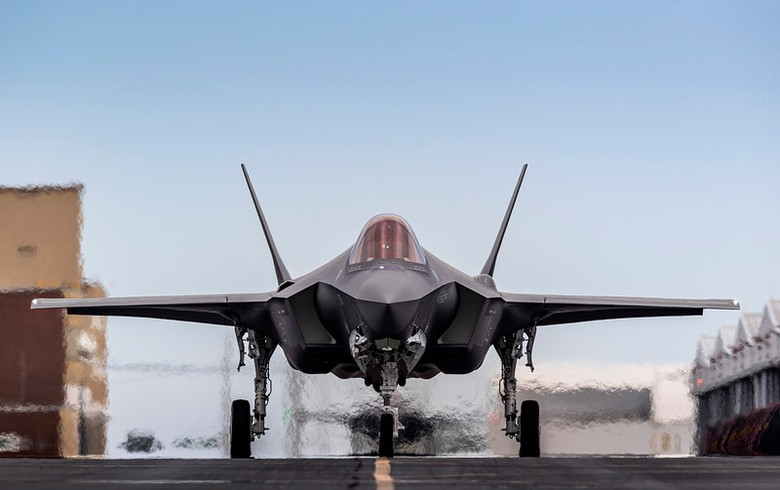F35: (29, 154, 743, 463)
